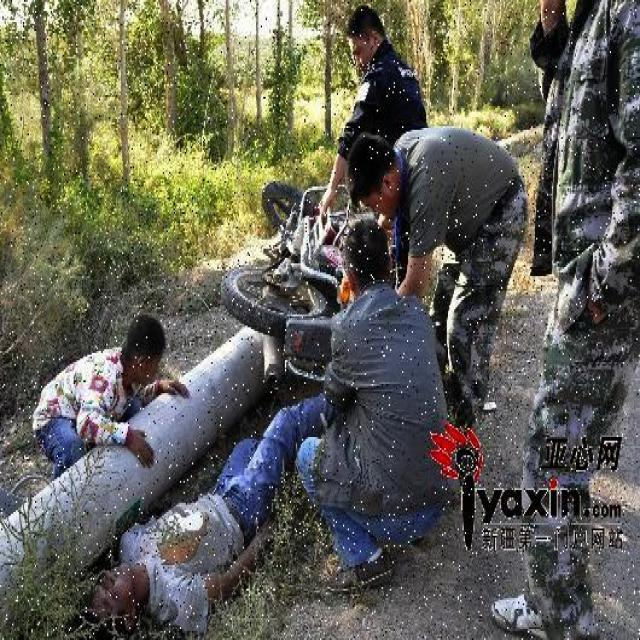fall: (75, 401, 322, 638)
